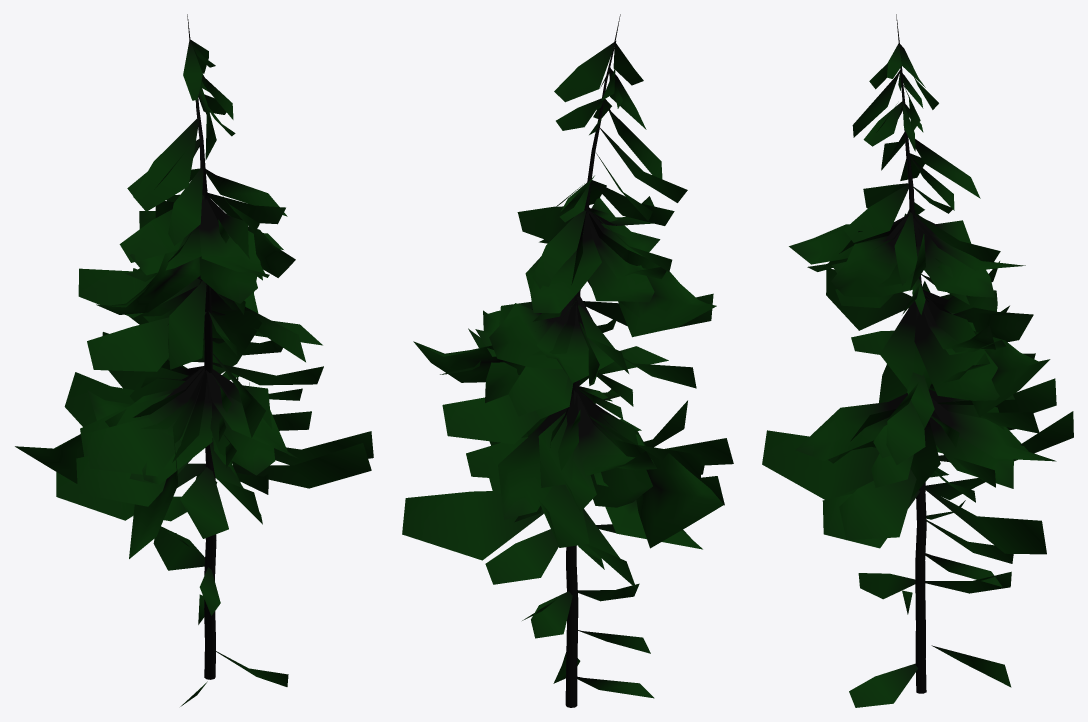
File: TTFE_PineSmall_02.fbx
3 views of the same model, side by side, from view 1: azimuth 30°, elevation 25°; view 2: azimuth 150°, elevation 25°; view 3: azimuth 270°, elevation 25° (orthographic). The views are drawn at different scales.
Parts seen in each view (by area): view 1: TTFE_PineSmall_02; view 2: TTFE_PineSmall_02; view 3: TTFE_PineSmall_02.
Part boxes in pixels (x1,y1,x2,y2): TTFE_PineSmall_02: [15, 14, 373, 706]; TTFE_PineSmall_02: [402, 14, 733, 707]; TTFE_PineSmall_02: [762, 14, 1073, 707].
Bounding box in the file's own units: 3.62 × 7.91 × 3.38.
